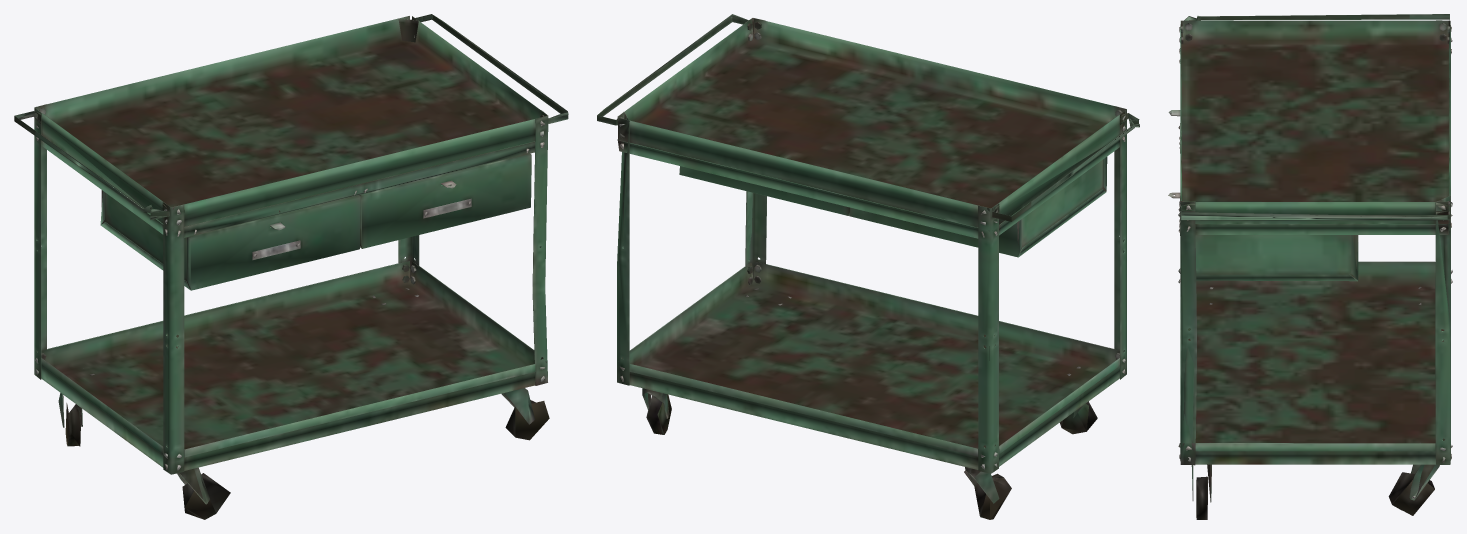
The model's file is toolCart_lo.glb.
The picture shows the model from 3 angles, left to right: view 1: azimuth 30°, elevation 25°; view 2: azimuth 150°, elevation 25°; view 3: azimuth 270°, elevation 25°; orthographic projection.
Parts seen in each view (by area): view 1: tool_cart; view 2: tool_cart; view 3: tool_cart.
Boxes of the visible parts, x1,y1,x2,y2 form: tool_cart: (14, 14, 568, 519); tool_cart: (597, 14, 1139, 519); tool_cart: (1168, 14, 1452, 519).
Size of the model in its own units: 1.26 by 0.9457 by 0.7521.
Materials: 1 (1 with a texture image).
